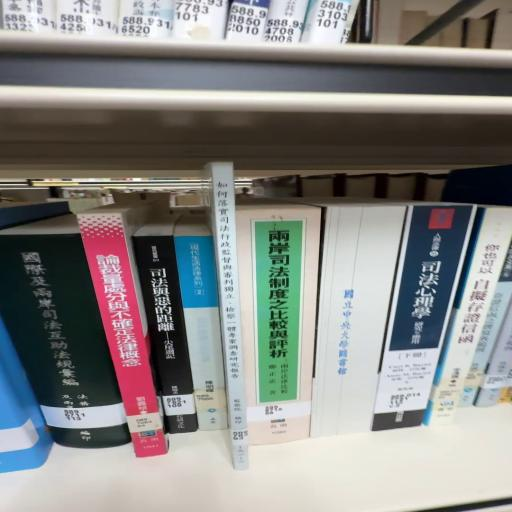backward: (302, 199, 407, 438)
book: (1, 226, 130, 453), (77, 212, 170, 462), (237, 203, 320, 404), (132, 227, 196, 438)
